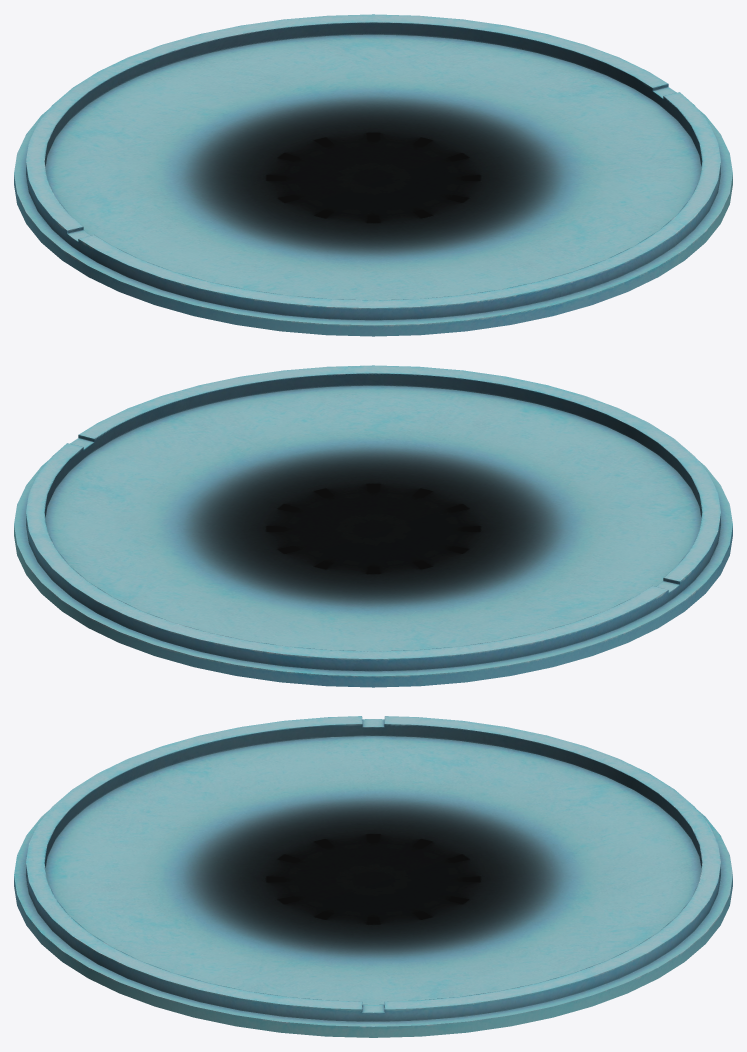
The model's file is GCircle2.fbx.
3 views of the same model, one above another, from view 1: azimuth 30°, elevation 25°; view 2: azimuth 150°, elevation 25°; view 3: azimuth 270°, elevation 25° (orthographic).
Parts seen in each view (by area): view 1: GCircle2; view 2: GCircle2; view 3: GCircle2.
Part boxes in pixels (bbox=[...]): GCircle2: bbox=[14, 14, 732, 336]; GCircle2: bbox=[14, 365, 732, 687]; GCircle2: bbox=[14, 716, 732, 1037].
Bounding box in the file's own units: 19.3 × 0.6887 × 19.3.
